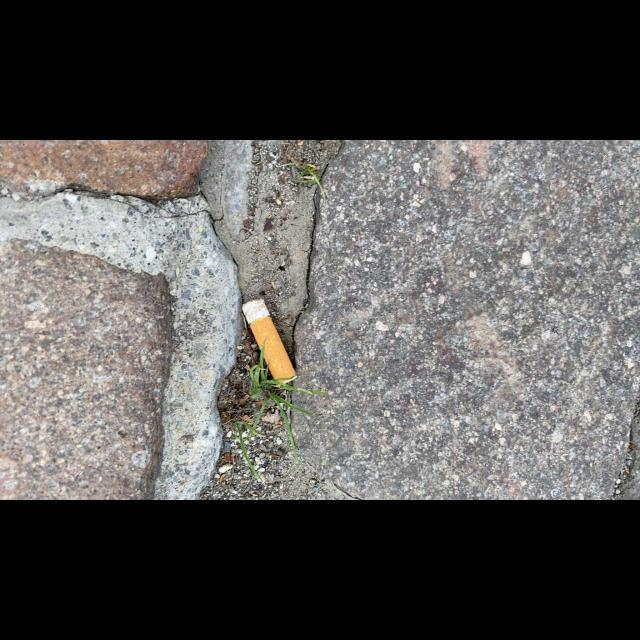cigarette: (240, 297, 298, 388)
